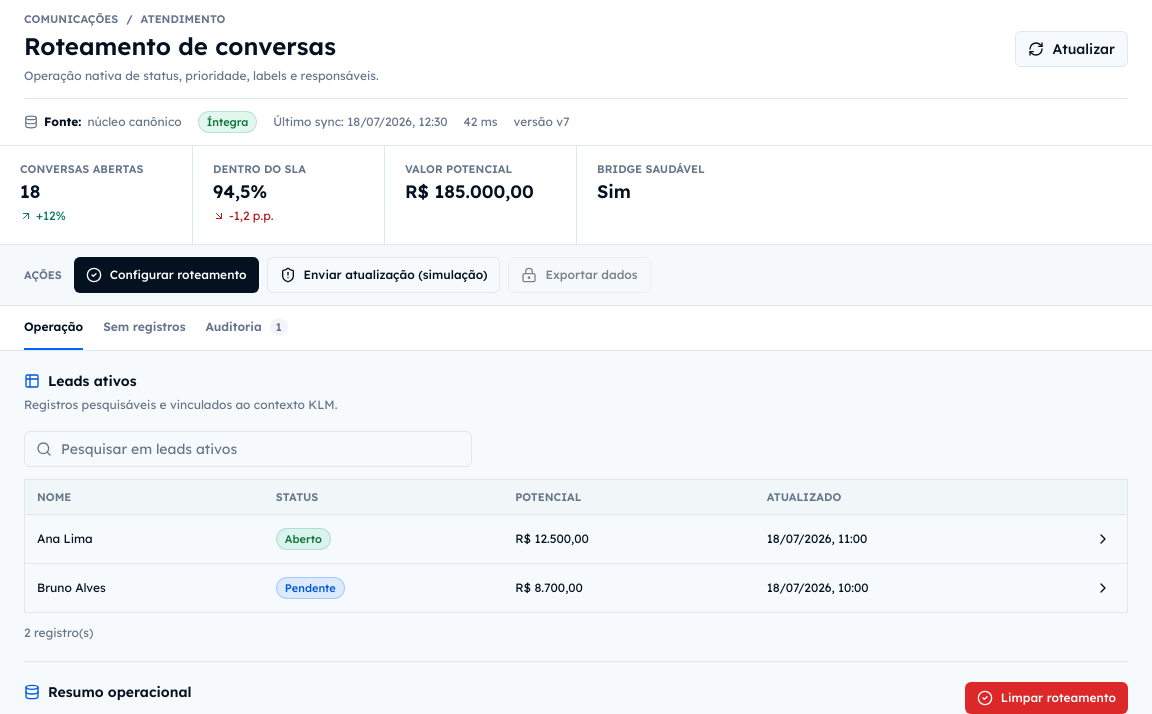
it: NativeCapabilityWorkspace schema-driven renderer › searches table rows and opens complete row details with contextual actions
Expected: the text "Ana Lima" is shown, x1=37 y1=531 x2=93 y2=546
Step 1. Type "Bruno" into the field with placeholder "Pesquisar em leads ativos" → {"x": 248, "y": 449}, box x1=24 y1=431 x2=472 y2=467
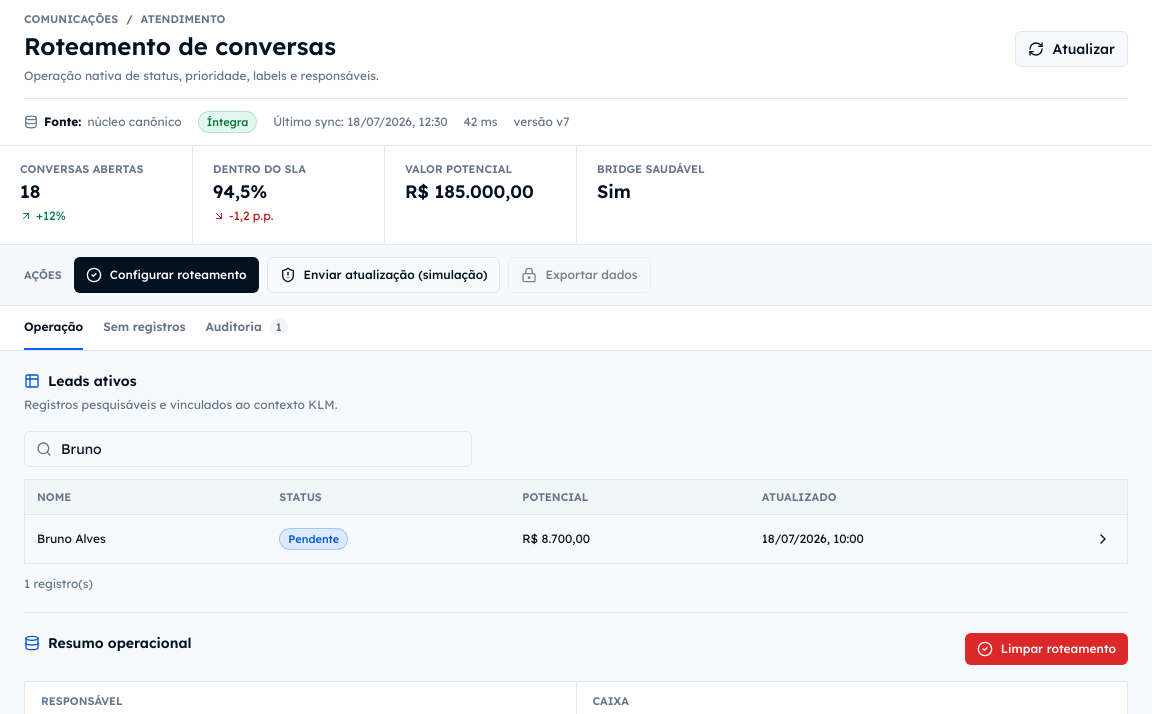
Expected: the text "Bruno Alves" is shown, x1=37 y1=531 x2=106 y2=546
Expected: the text "Ana Lima" is gone
Step 2. Clear the field with placeholder "Pesquisar em leads ativos" → {"x": 248, "y": 449}, box x1=24 y1=431 x2=472 y2=467
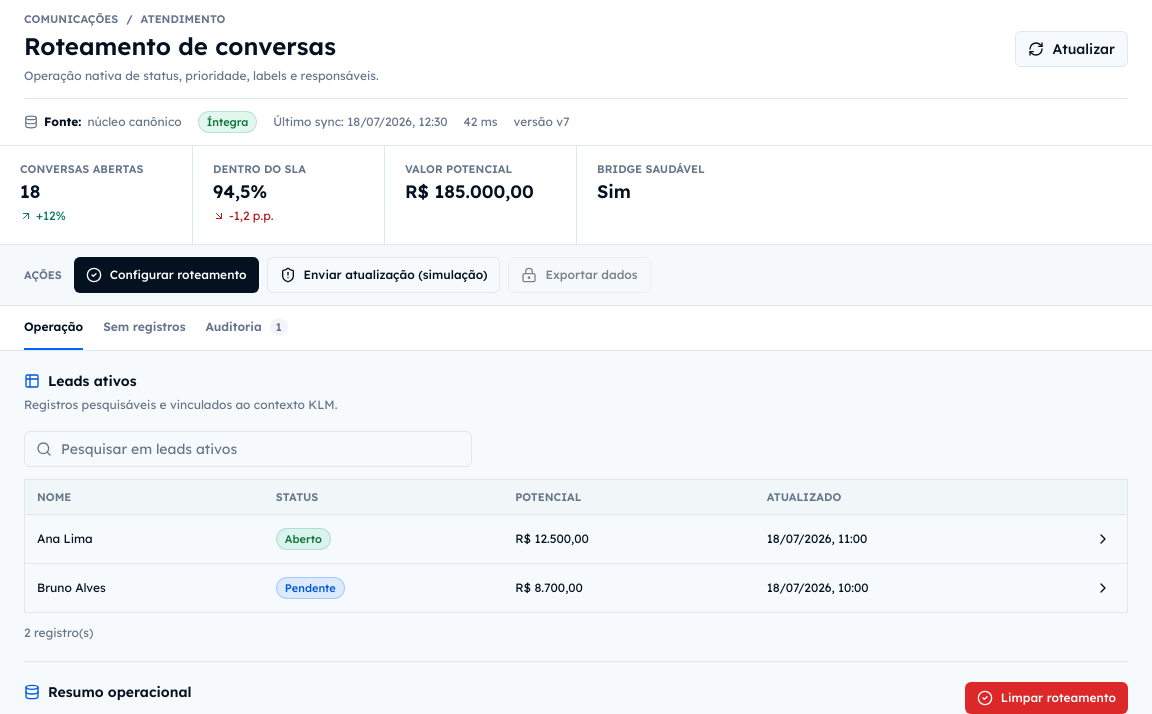
Step 3. Click the button named "Ver detalhes de Ana Lima" → {"x": 1103, "y": 539}, box x1=1087 y1=523 x2=1119 y2=555
(page scrolled)
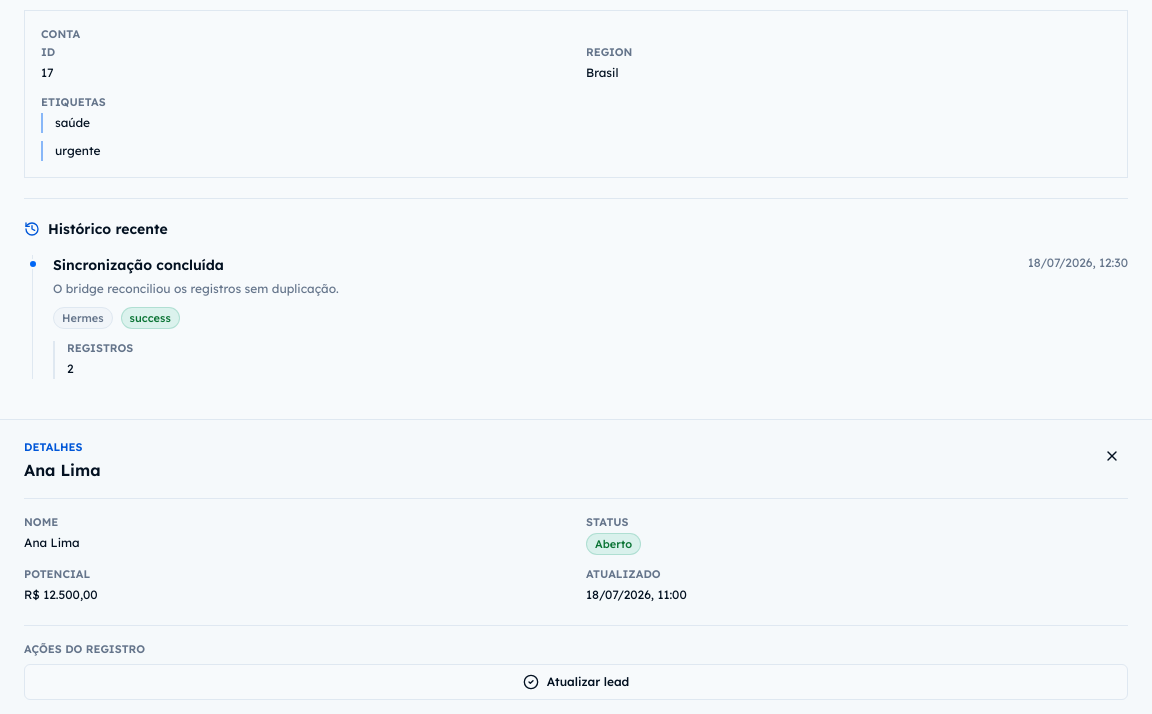
Expected: the text "R$ 12.500,00" is shown, x1=24 y1=587 x2=98 y2=602
Expected: the button "Atualizar lead" is shown, x1=24 y1=664 x2=1128 y2=700
